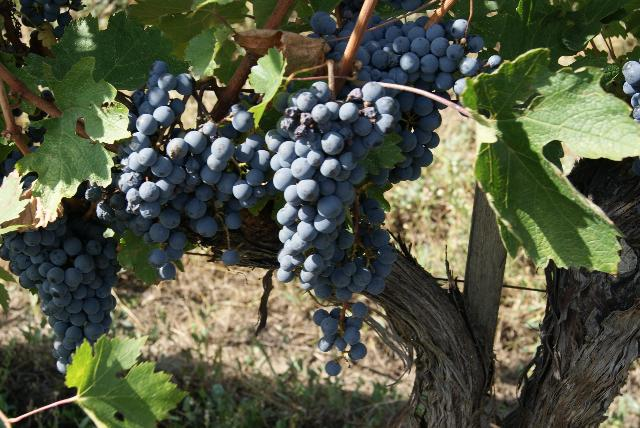grapes: (85, 60, 268, 279), (348, 20, 502, 189), (274, 81, 401, 284), (0, 215, 120, 371), (312, 199, 398, 360)
